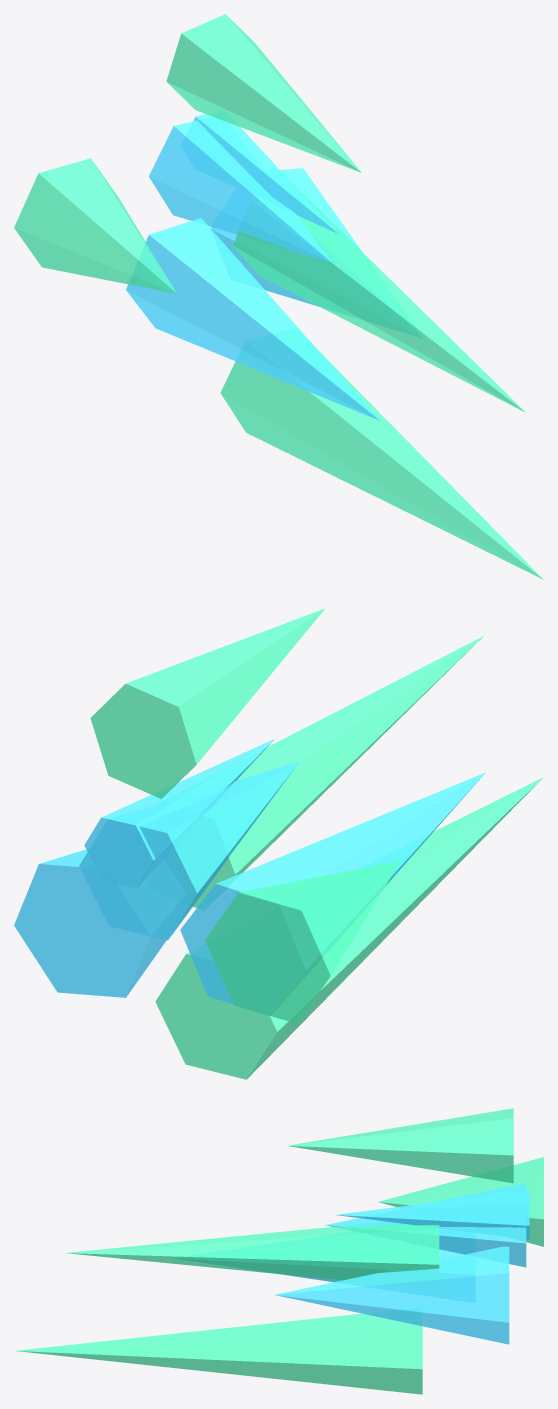
The model's file is 11_Resonance_Crystal_Heart.glb.
3 renders of one model, top to bottom at view 1: azimuth 30°, elevation 25°; view 2: azimuth 150°, elevation 25°; view 3: azimuth 270°, elevation 25°, orthographic. The views are drawn at different scales.
Parts seen in each view (by area): view 1: 11_Resonance_Crystal_Heart_05, 11_Resonance_Crystal_Heart_06, 11_Resonance_Crystal_Heart_00, 11_Resonance_Crystal_Heart_02, 11_Resonance_Crystal_Heart_04, 11_Resonance_Crystal_Heart_03, 11_Resonance_Crystal_Heart_07, 11_Resonance_Crystal_Heart_01; view 2: 11_Resonance_Crystal_Heart_05, 11_Resonance_Crystal_Heart_02, 11_Resonance_Crystal_Heart_04, 11_Resonance_Crystal_Heart_06, 11_Resonance_Crystal_Heart_03, 11_Resonance_Crystal_Heart_00, 11_Resonance_Crystal_Heart_07, 11_Resonance_Crystal_Heart_01; view 3: 11_Resonance_Crystal_Heart_06, 11_Resonance_Crystal_Heart_00, 11_Resonance_Crystal_Heart_07, 11_Resonance_Crystal_Heart_02, 11_Resonance_Crystal_Heart_05, 11_Resonance_Crystal_Heart_03, 11_Resonance_Crystal_Heart_01, 11_Resonance_Crystal_Heart_04.
Part boxes in pixels (x1,y1,x2,y2): 11_Resonance_Crystal_Heart_05: [126, 218, 379, 420]; 11_Resonance_Crystal_Heart_06: [220, 349, 543, 579]; 11_Resonance_Crystal_Heart_00: [233, 184, 525, 412]; 11_Resonance_Crystal_Heart_02: [166, 14, 361, 172]; 11_Resonance_Crystal_Heart_04: [14, 158, 176, 293]; 11_Resonance_Crystal_Heart_03: [149, 120, 331, 262]; 11_Resonance_Crystal_Heart_07: [210, 168, 421, 337]; 11_Resonance_Crystal_Heart_01: [193, 111, 339, 234]; 11_Resonance_Crystal_Heart_05: [180, 772, 485, 1016]; 11_Resonance_Crystal_Heart_02: [90, 608, 324, 798]; 11_Resonance_Crystal_Heart_04: [205, 860, 400, 1023]; 11_Resonance_Crystal_Heart_06: [155, 777, 543, 1079]; 11_Resonance_Crystal_Heart_03: [79, 762, 298, 940]; 11_Resonance_Crystal_Heart_00: [193, 636, 483, 907]; 11_Resonance_Crystal_Heart_07: [14, 849, 166, 997]; 11_Resonance_Crystal_Heart_01: [84, 739, 274, 888]; 11_Resonance_Crystal_Heart_06: [15, 1313, 422, 1394]; 11_Resonance_Crystal_Heart_00: [65, 1224, 439, 1280]; 11_Resonance_Crystal_Heart_07: [275, 1246, 509, 1344]; 11_Resonance_Crystal_Heart_02: [287, 1108, 513, 1183]; 11_Resonance_Crystal_Heart_05: [176, 1232, 463, 1282]; 11_Resonance_Crystal_Heart_03: [325, 1183, 526, 1267]; 11_Resonance_Crystal_Heart_01: [336, 1190, 529, 1239]; 11_Resonance_Crystal_Heart_04: [378, 1157, 543, 1246].
Size of the model in its own units: 2.45 by 2.97 by 5.22.
